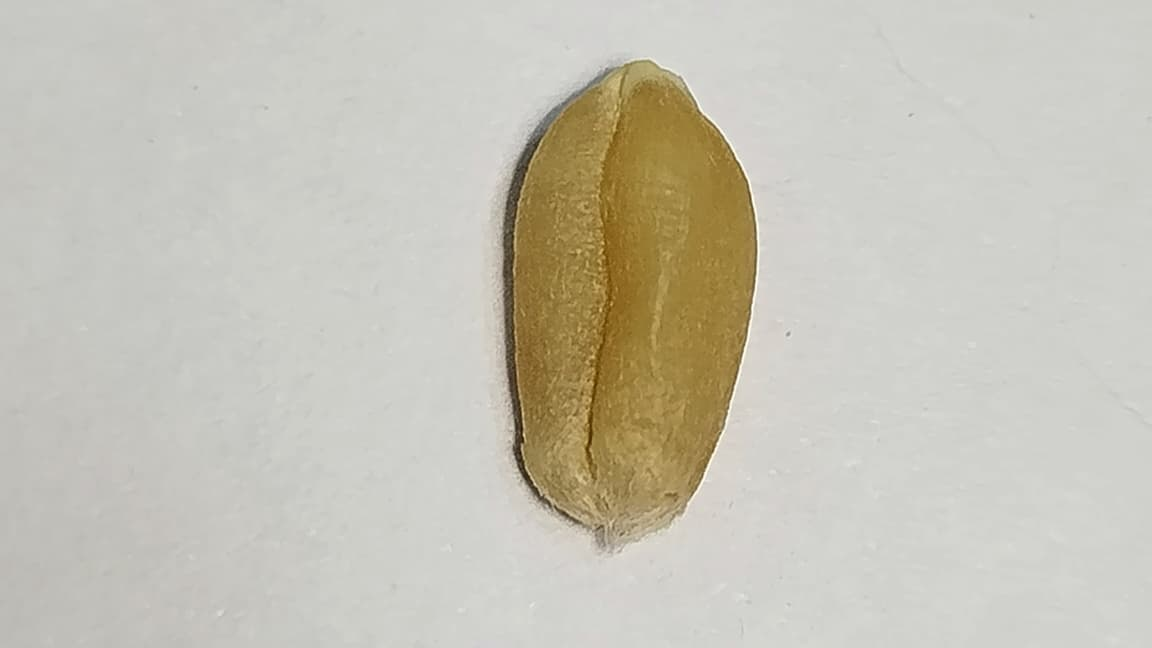healthy: (513, 61, 755, 525)
